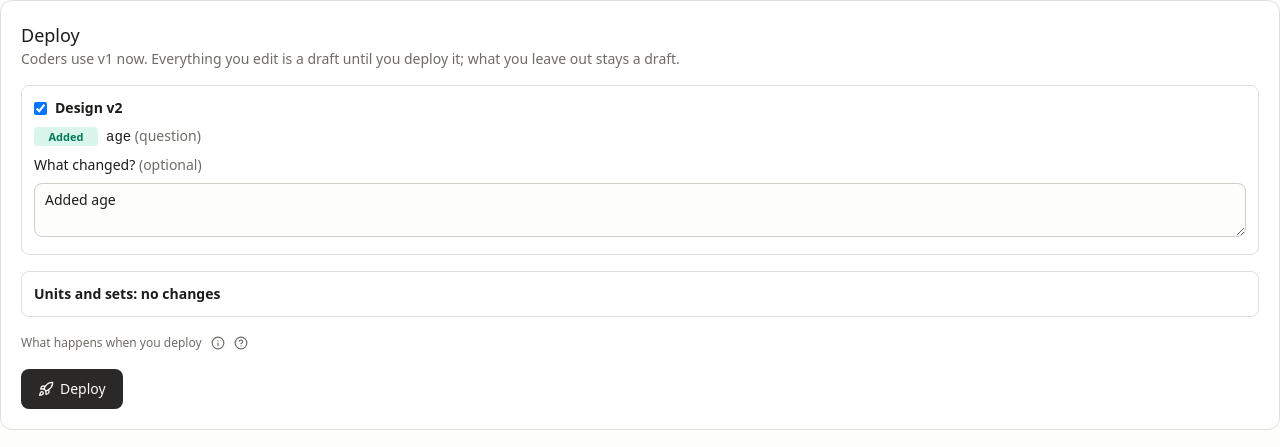
Scenario: the deploy panel › without unit changes only the design is deployed; with nothing left to deploy, Deploy is off
This screenshot has width=1280, height=447.
Later steps or results of the test are not shown.
Expected: the text "Units and sets: no changes" is shown, [34,284,220,303]
Step 1. Click the checkbox labelled "Design v2" → click(40, 108), box [34,102,47,114]
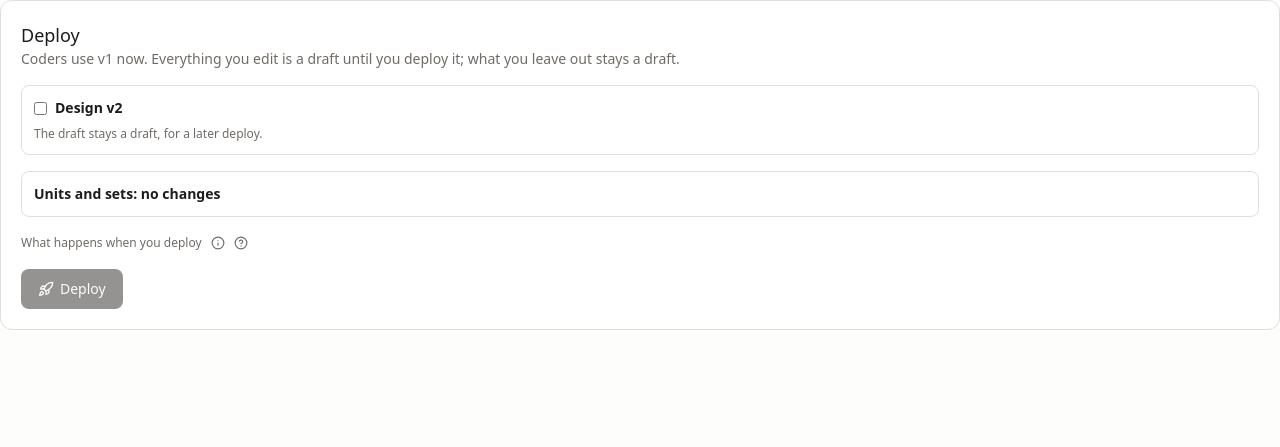
Expected: the button "Deploy" is disabled, [21,269,123,309]
